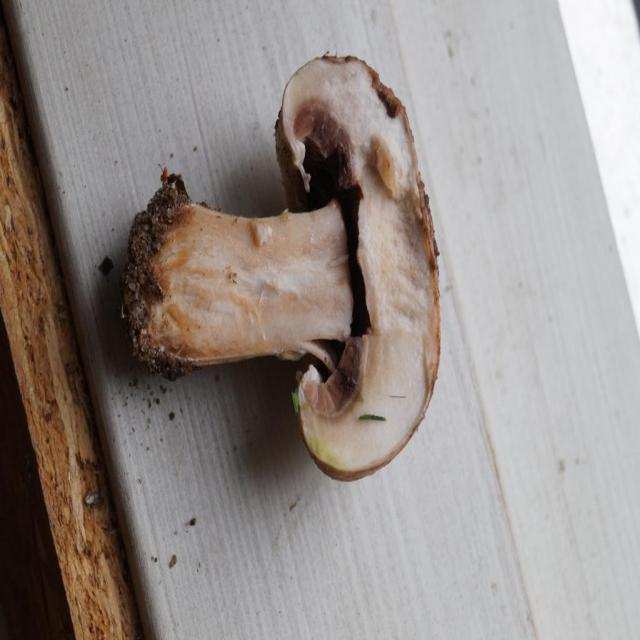Agaricus bisporus: (116, 51, 440, 485)
